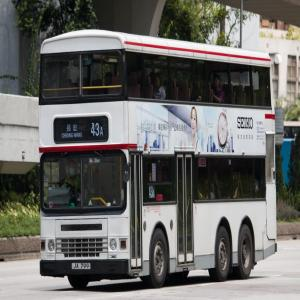Vehicle-registration-plate: (73, 260, 91, 271)
